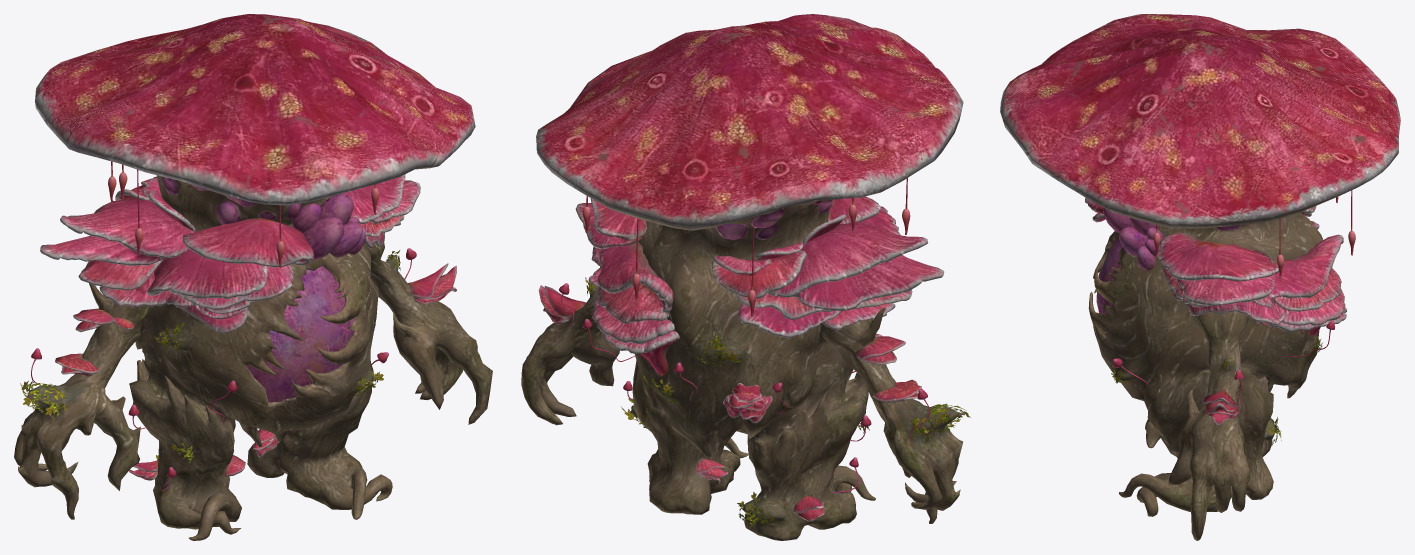
Rendered from pet-1190.glb.
The picture shows the model from 3 angles, left to right: view 1: azimuth 30°, elevation 25°; view 2: azimuth 150°, elevation 25°; view 3: azimuth 270°, elevation 25°; orthographic projection. The views are drawn at different scales.
Parts seen in each view (by area): view 1: VEH_ToxFungus_01; view 2: VEH_ToxFungus_01; view 3: VEH_ToxFungus_01.
Part boxes in pixels (x1=…): VEH_ToxFungus_01: x1=14, y1=14, x2=492, y2=540; VEH_ToxFungus_01: x1=521, y1=14, x2=970, y2=540; VEH_ToxFungus_01: x1=1000, y1=14, x2=1400, y2=540.
Bounding box in the file's own units: 3.76 × 3.73 × 3.11.
Materials: 1 (1 with a texture image).
